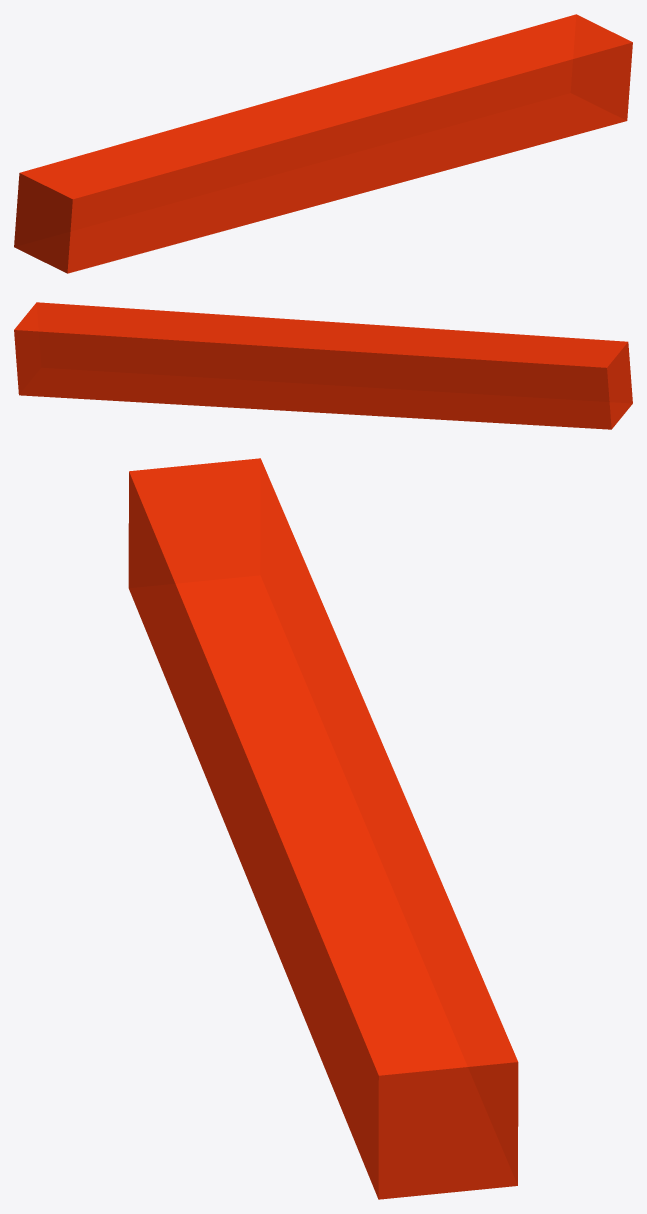
File: Event_421278790_EErechit_65.fbx
3 renders of one model, top to bottom at view 1: azimuth 30°, elevation 25°; view 2: azimuth 150°, elevation 25°; view 3: azimuth 270°, elevation 25°, orthographic. The views are drawn at different scales.
Parts seen in each view (by area): view 1: Model; view 2: Model; view 3: Model.
Part boxes in pixels (x1=…): Model: x1=14, y1=14, x2=632, y2=273; Model: x1=14, y1=302, x2=632, y2=429; Model: x1=128, y1=458, x2=518, y2=1199.
Size of the model in its own units: 0.6795 by 0.1299 by 0.2102.
